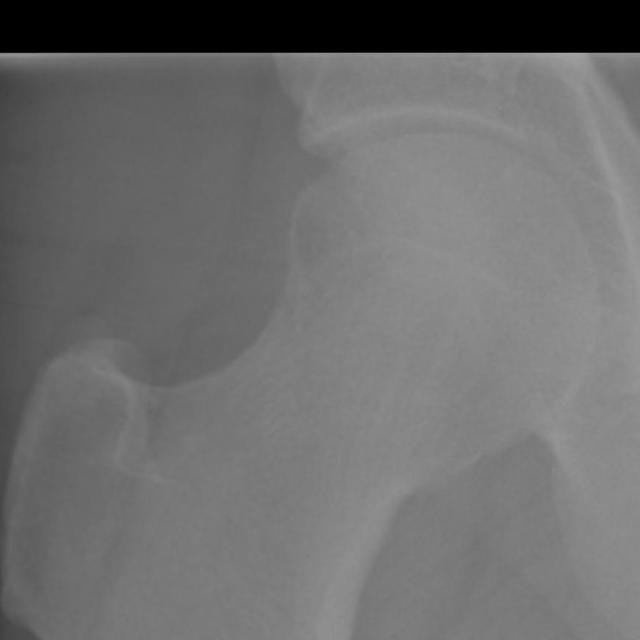Fitted_femural_head: (322, 148, 432, 322)
